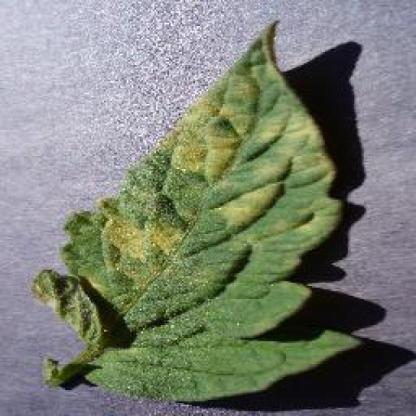Tomato_Leaf_Mold: (35, 18, 318, 345)
